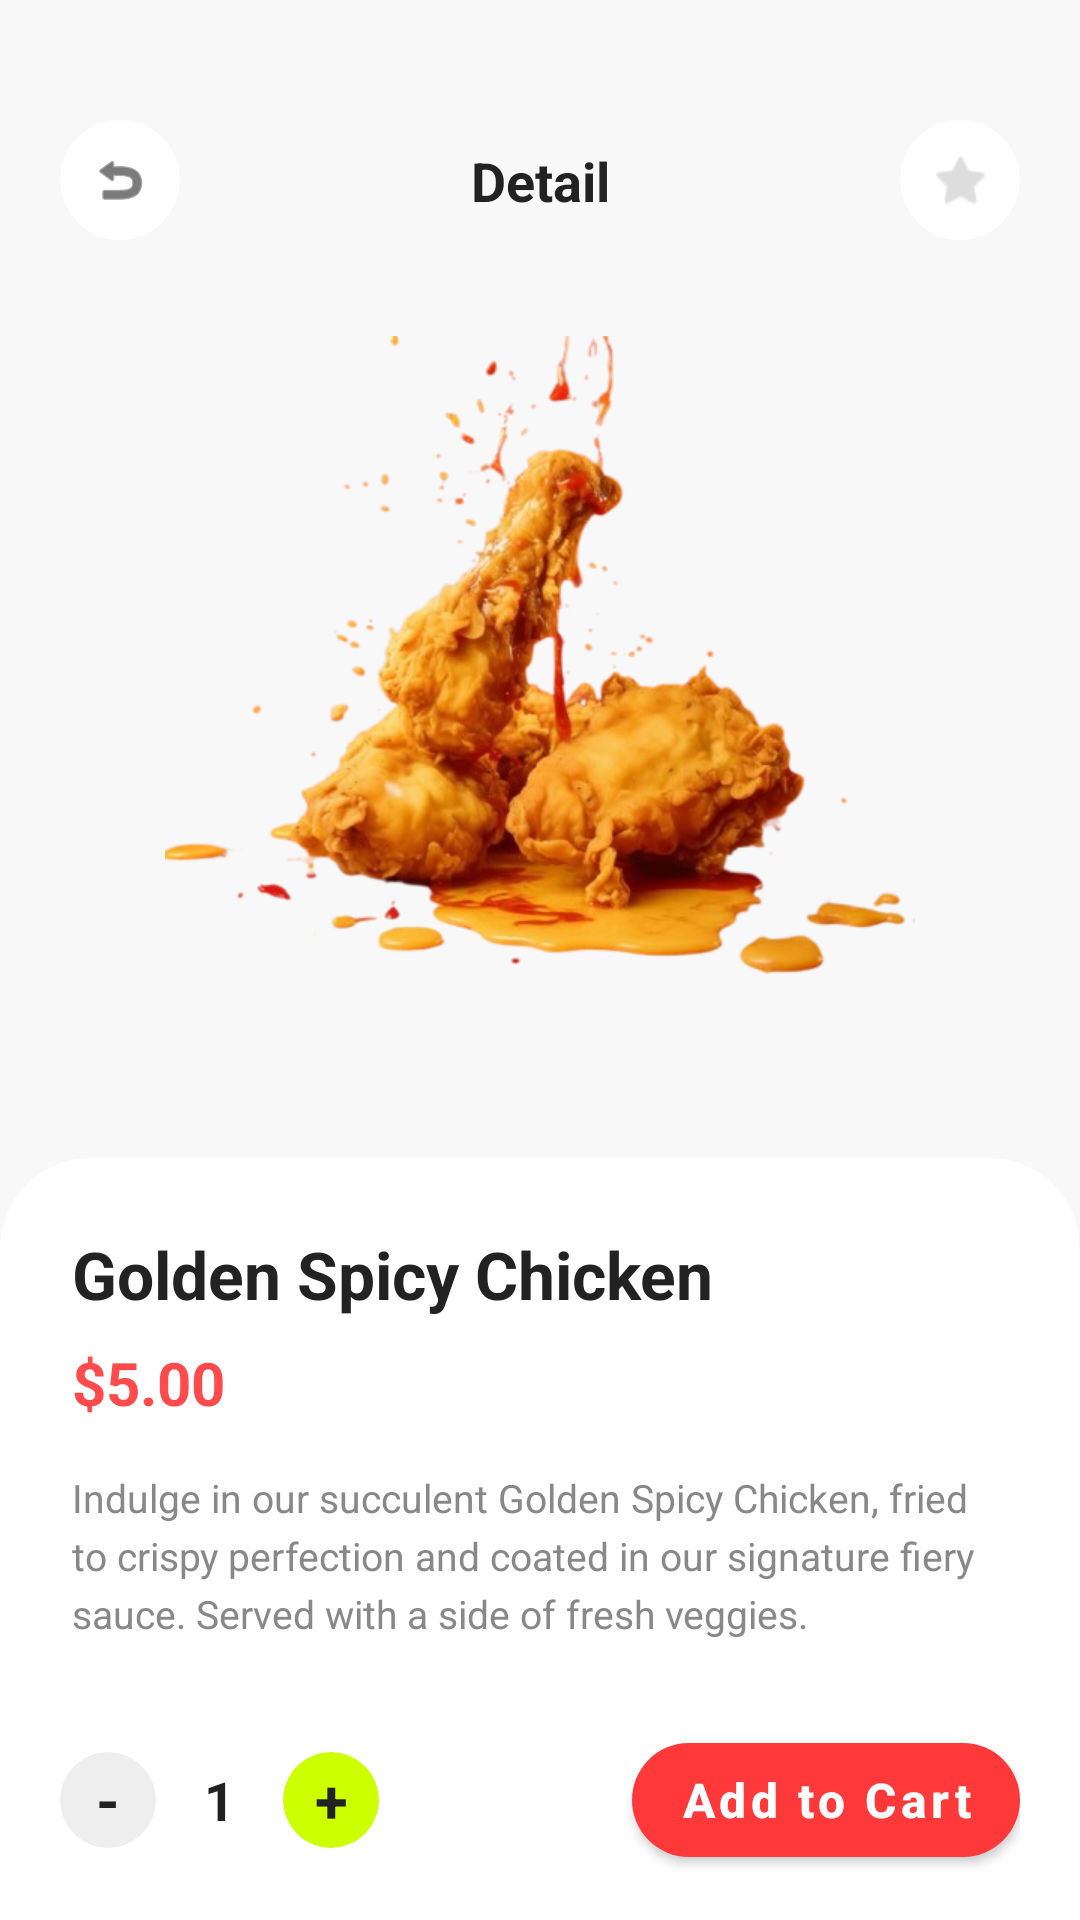

Named icons in this screenshot (1080x1920) and their centers, (x=x, y=y):
revert: (x=120, y=180)
star off: (x=960, y=180)
